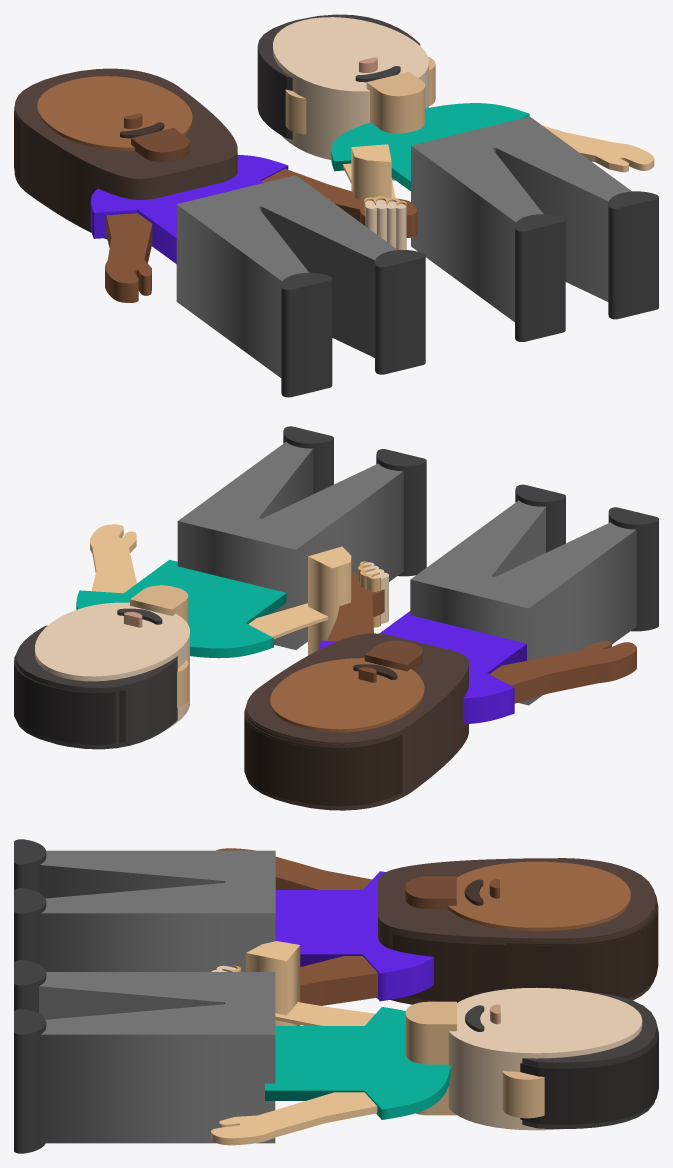
Rendered from emoji_u1f469_1f3fe_200d_1f91d_200d_1f468_1f3fb.glb.
The picture shows the model from 3 angles, top to bottom: view 1: azimuth 30°, elevation 25°; view 2: azimuth 150°, elevation 25°; view 3: azimuth 270°, elevation 25°; orthographic projection. The views are drawn at different scales.
Visible parts, largest first — view 1: emoji_u1f469_1f3fe_200d_1f91d_200d_1f468_1f3fb; view 2: emoji_u1f469_1f3fe_200d_1f91d_200d_1f468_1f3fb; view 3: emoji_u1f469_1f3fe_200d_1f91d_200d_1f468_1f3fb.
Part boxes in pixels (left/top/right/bottom): emoji_u1f469_1f3fe_200d_1f91d_200d_1f468_1f3fb: left=14, top=14, right=658, bottom=397; emoji_u1f469_1f3fe_200d_1f91d_200d_1f468_1f3fb: left=14, top=426, right=658, bottom=810; emoji_u1f469_1f3fe_200d_1f91d_200d_1f468_1f3fb: left=14, top=839, right=658, bottom=1153.
Size of the model in its own units: 0.0346 by 0.0068 by 0.0334.
